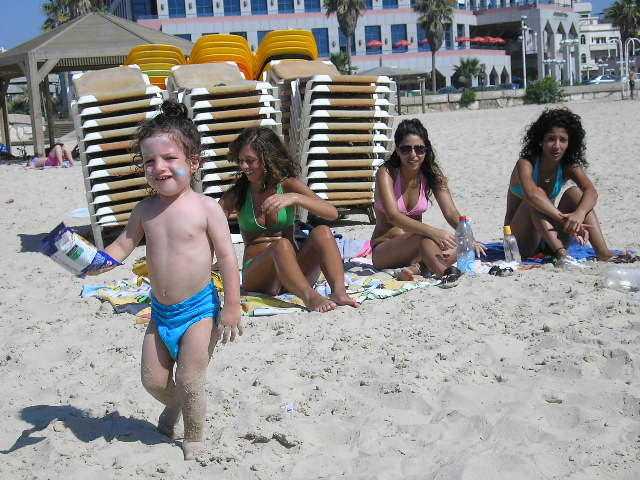Person: (50, 98, 267, 447), (213, 118, 376, 320), (352, 101, 500, 280), (492, 96, 634, 281)
